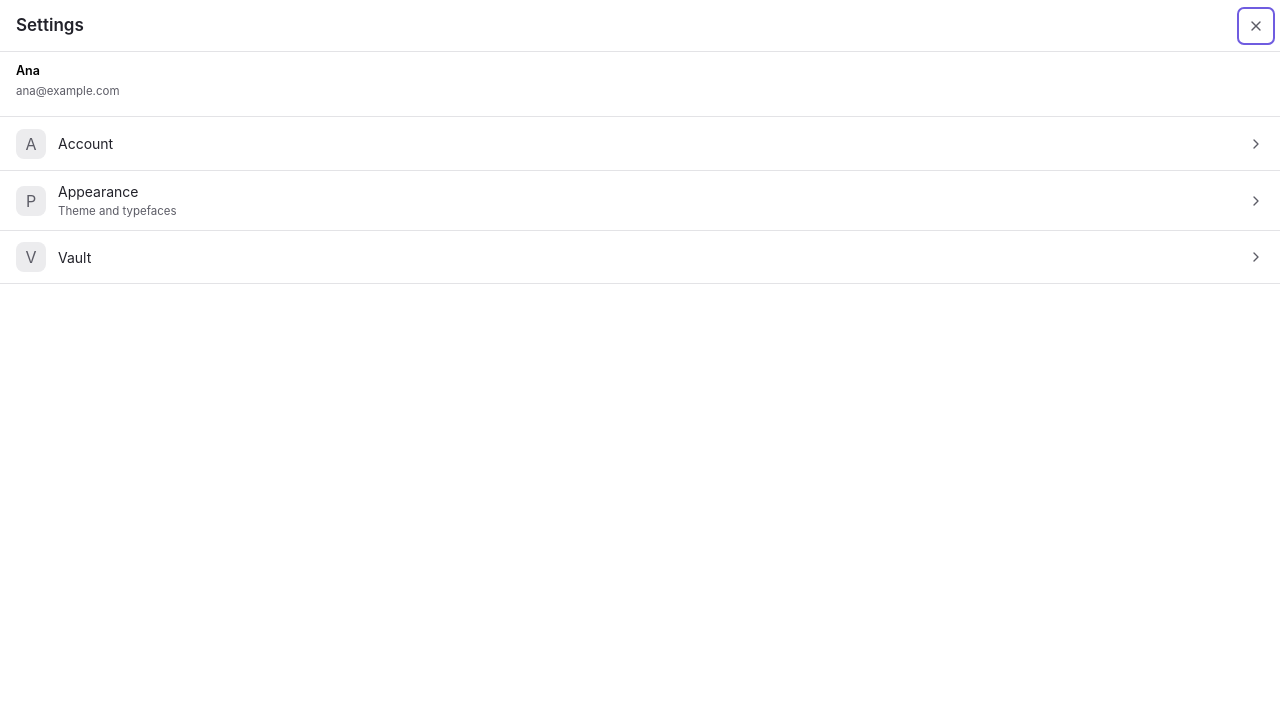
settings, phone › pushes a section page with a way back in the header
The image size is (1280, 720).
Click the button "P Appearance Theme and typefaces" at (98, 192), box [0,170,1279,230]
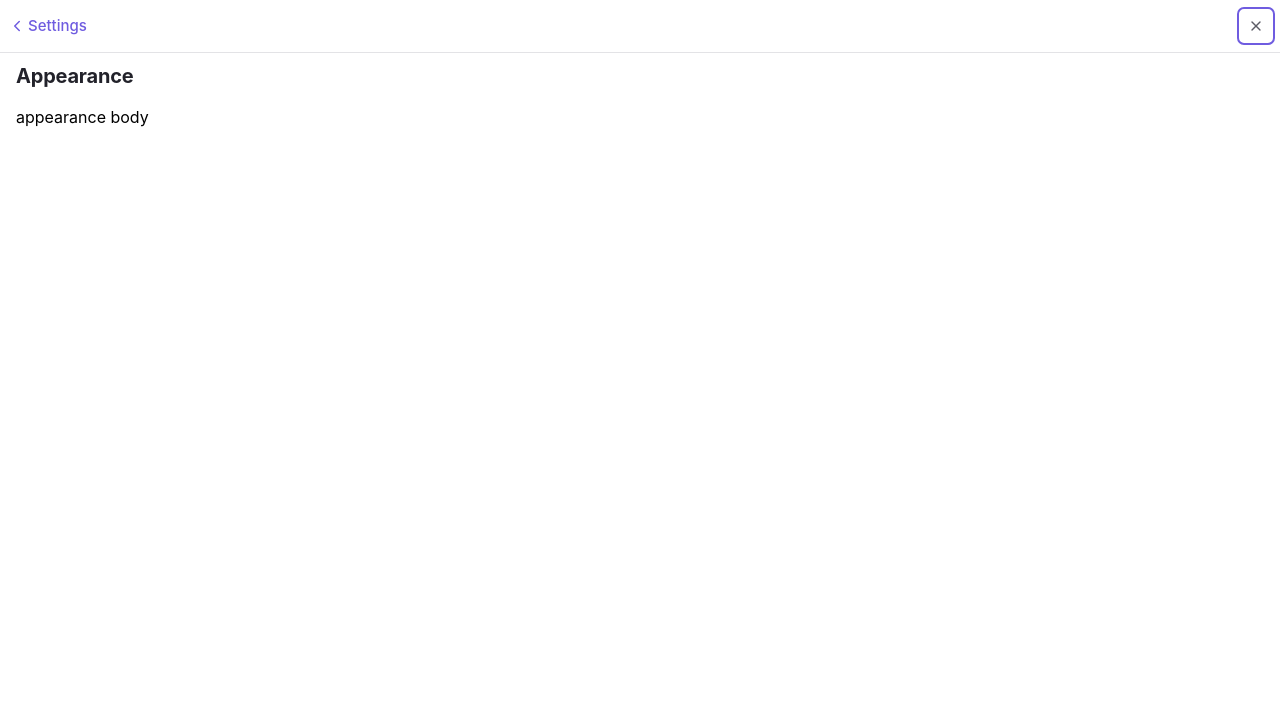
Expected: the element with class "settings-head" is shown, [0,0,1279,53]
Expected: the text "appearance body" is shown, [16,107,149,127]
Expected: the heading with class "settings-page-title" reads "Appearance", [16,64,134,88]
